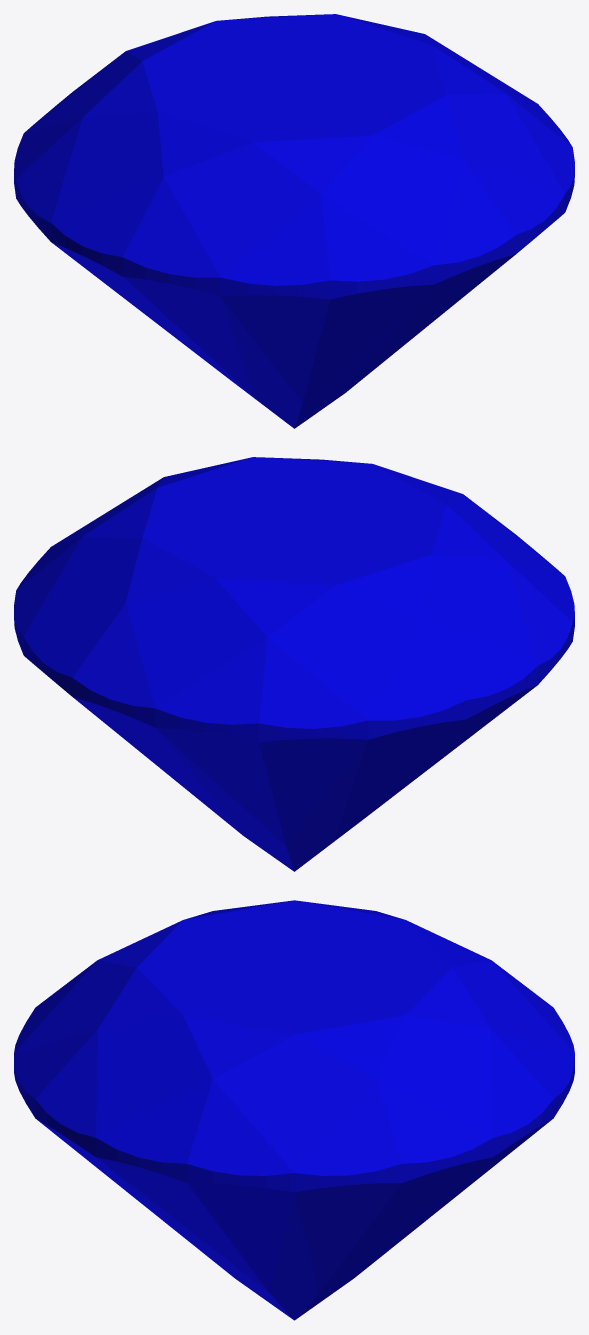
Rendered from Head_Single Halo_Round_2.0ct_Diamond.glb.
3 renders of one model, top to bottom at view 1: azimuth 30°, elevation 25°; view 2: azimuth 150°, elevation 25°; view 3: azimuth 270°, elevation 25°, orthographic.
Bounding box in the file's own units: 0.00803 × 0.00553 × 0.00796.
